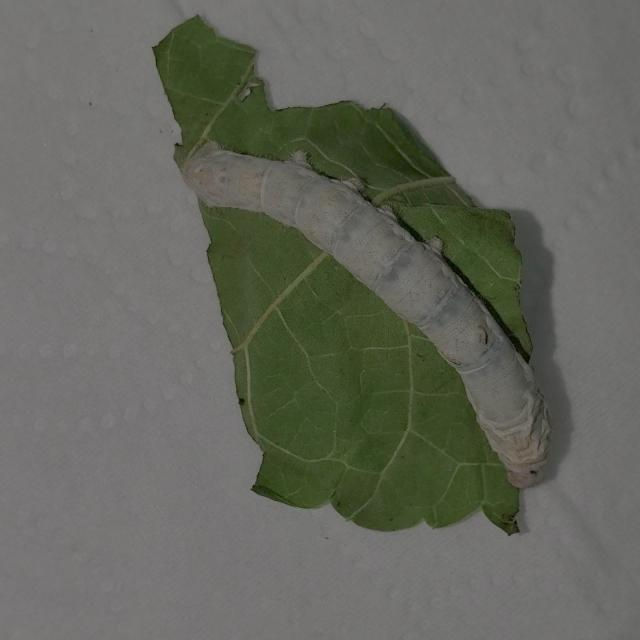Healthy: (175, 134, 561, 494)
